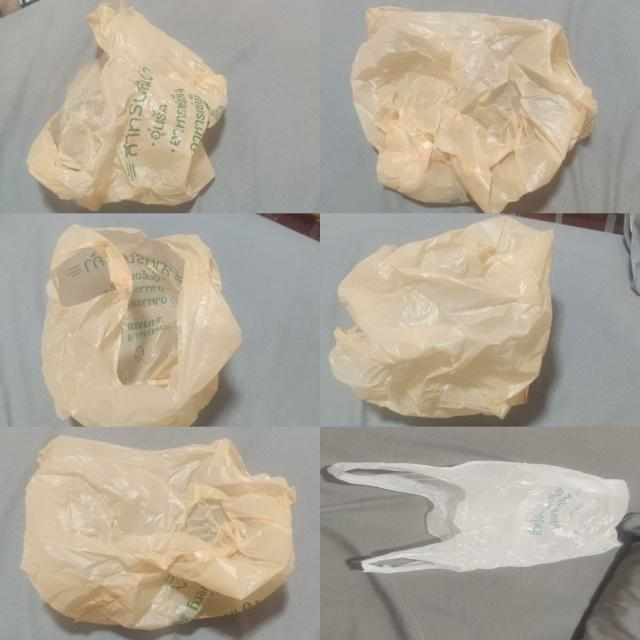Single-layer Plastic: (21, 436, 295, 629), (350, 6, 597, 212), (329, 216, 553, 418), (26, 0, 228, 210), (41, 225, 241, 426), (328, 461, 629, 573)
